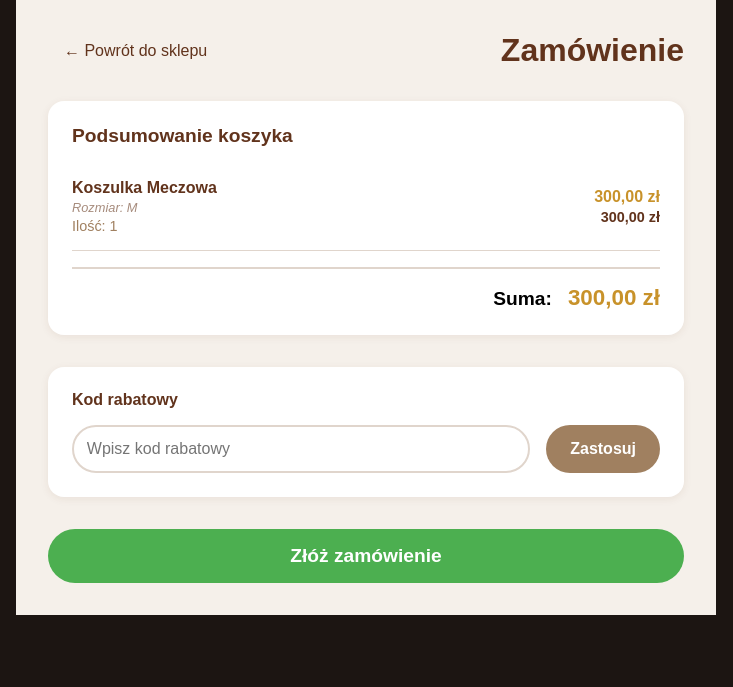
it: Order Component › should apply discount code
Type "Chaber#1" into the field with placeholder "Wpisz kod rabatowy" at (301, 449), box [72,425,530,473]
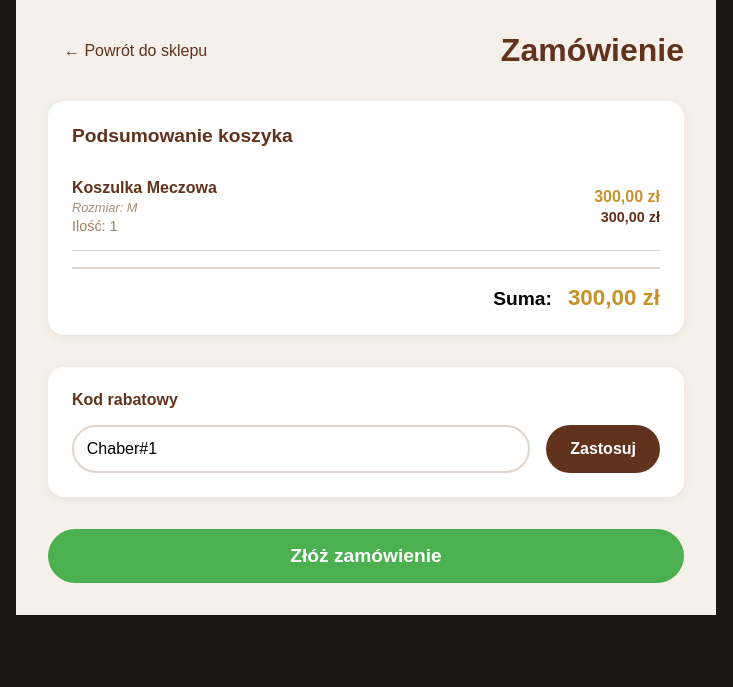
Click the button "Zastosuj" at (603, 449), box [546,425,660,473]
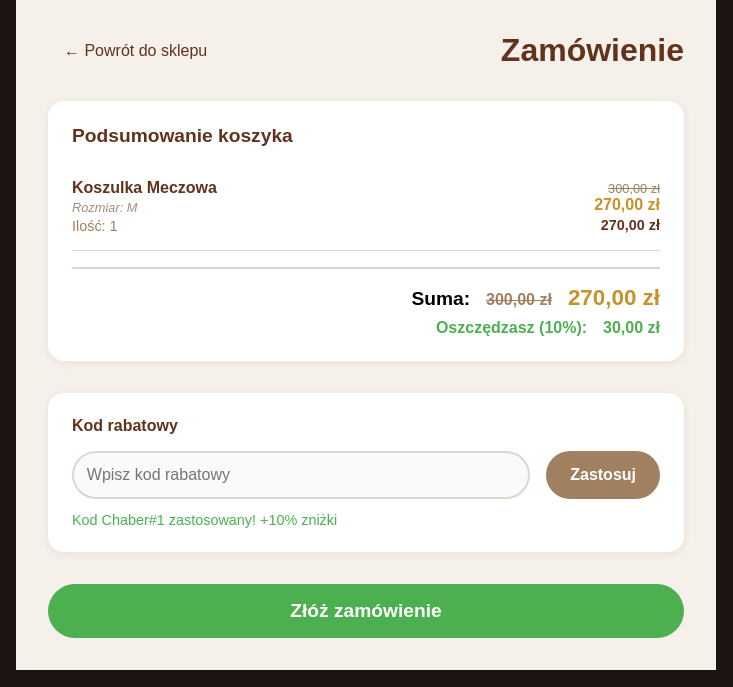
Now the text "Kod Chaber#1 zastosowany! +10% zniżki" is shown, box [72,512,337,528]
